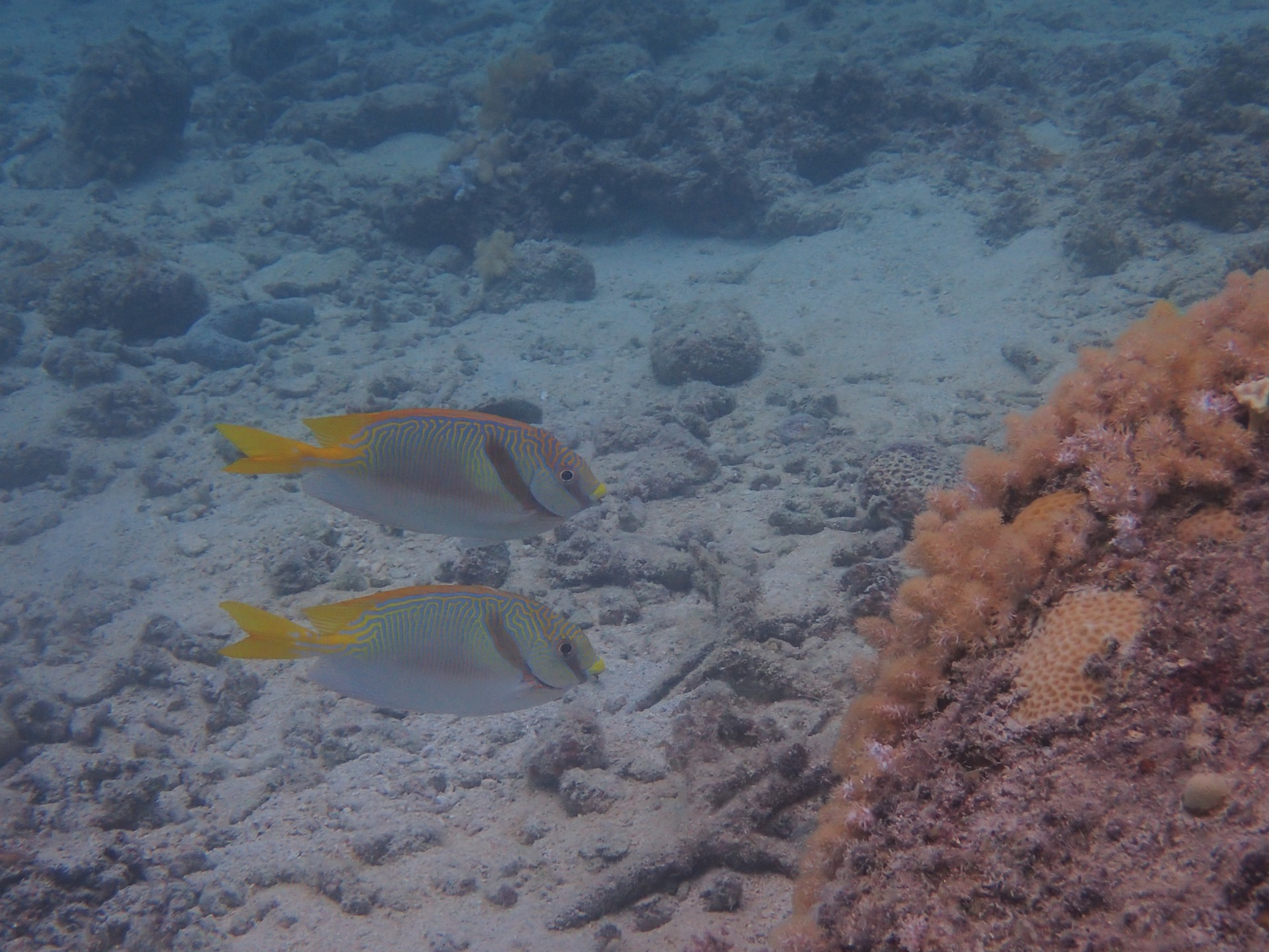fishbody: (221, 571, 612, 722), (220, 403, 613, 547)
fishhead: (481, 421, 610, 534), (490, 594, 604, 709)
